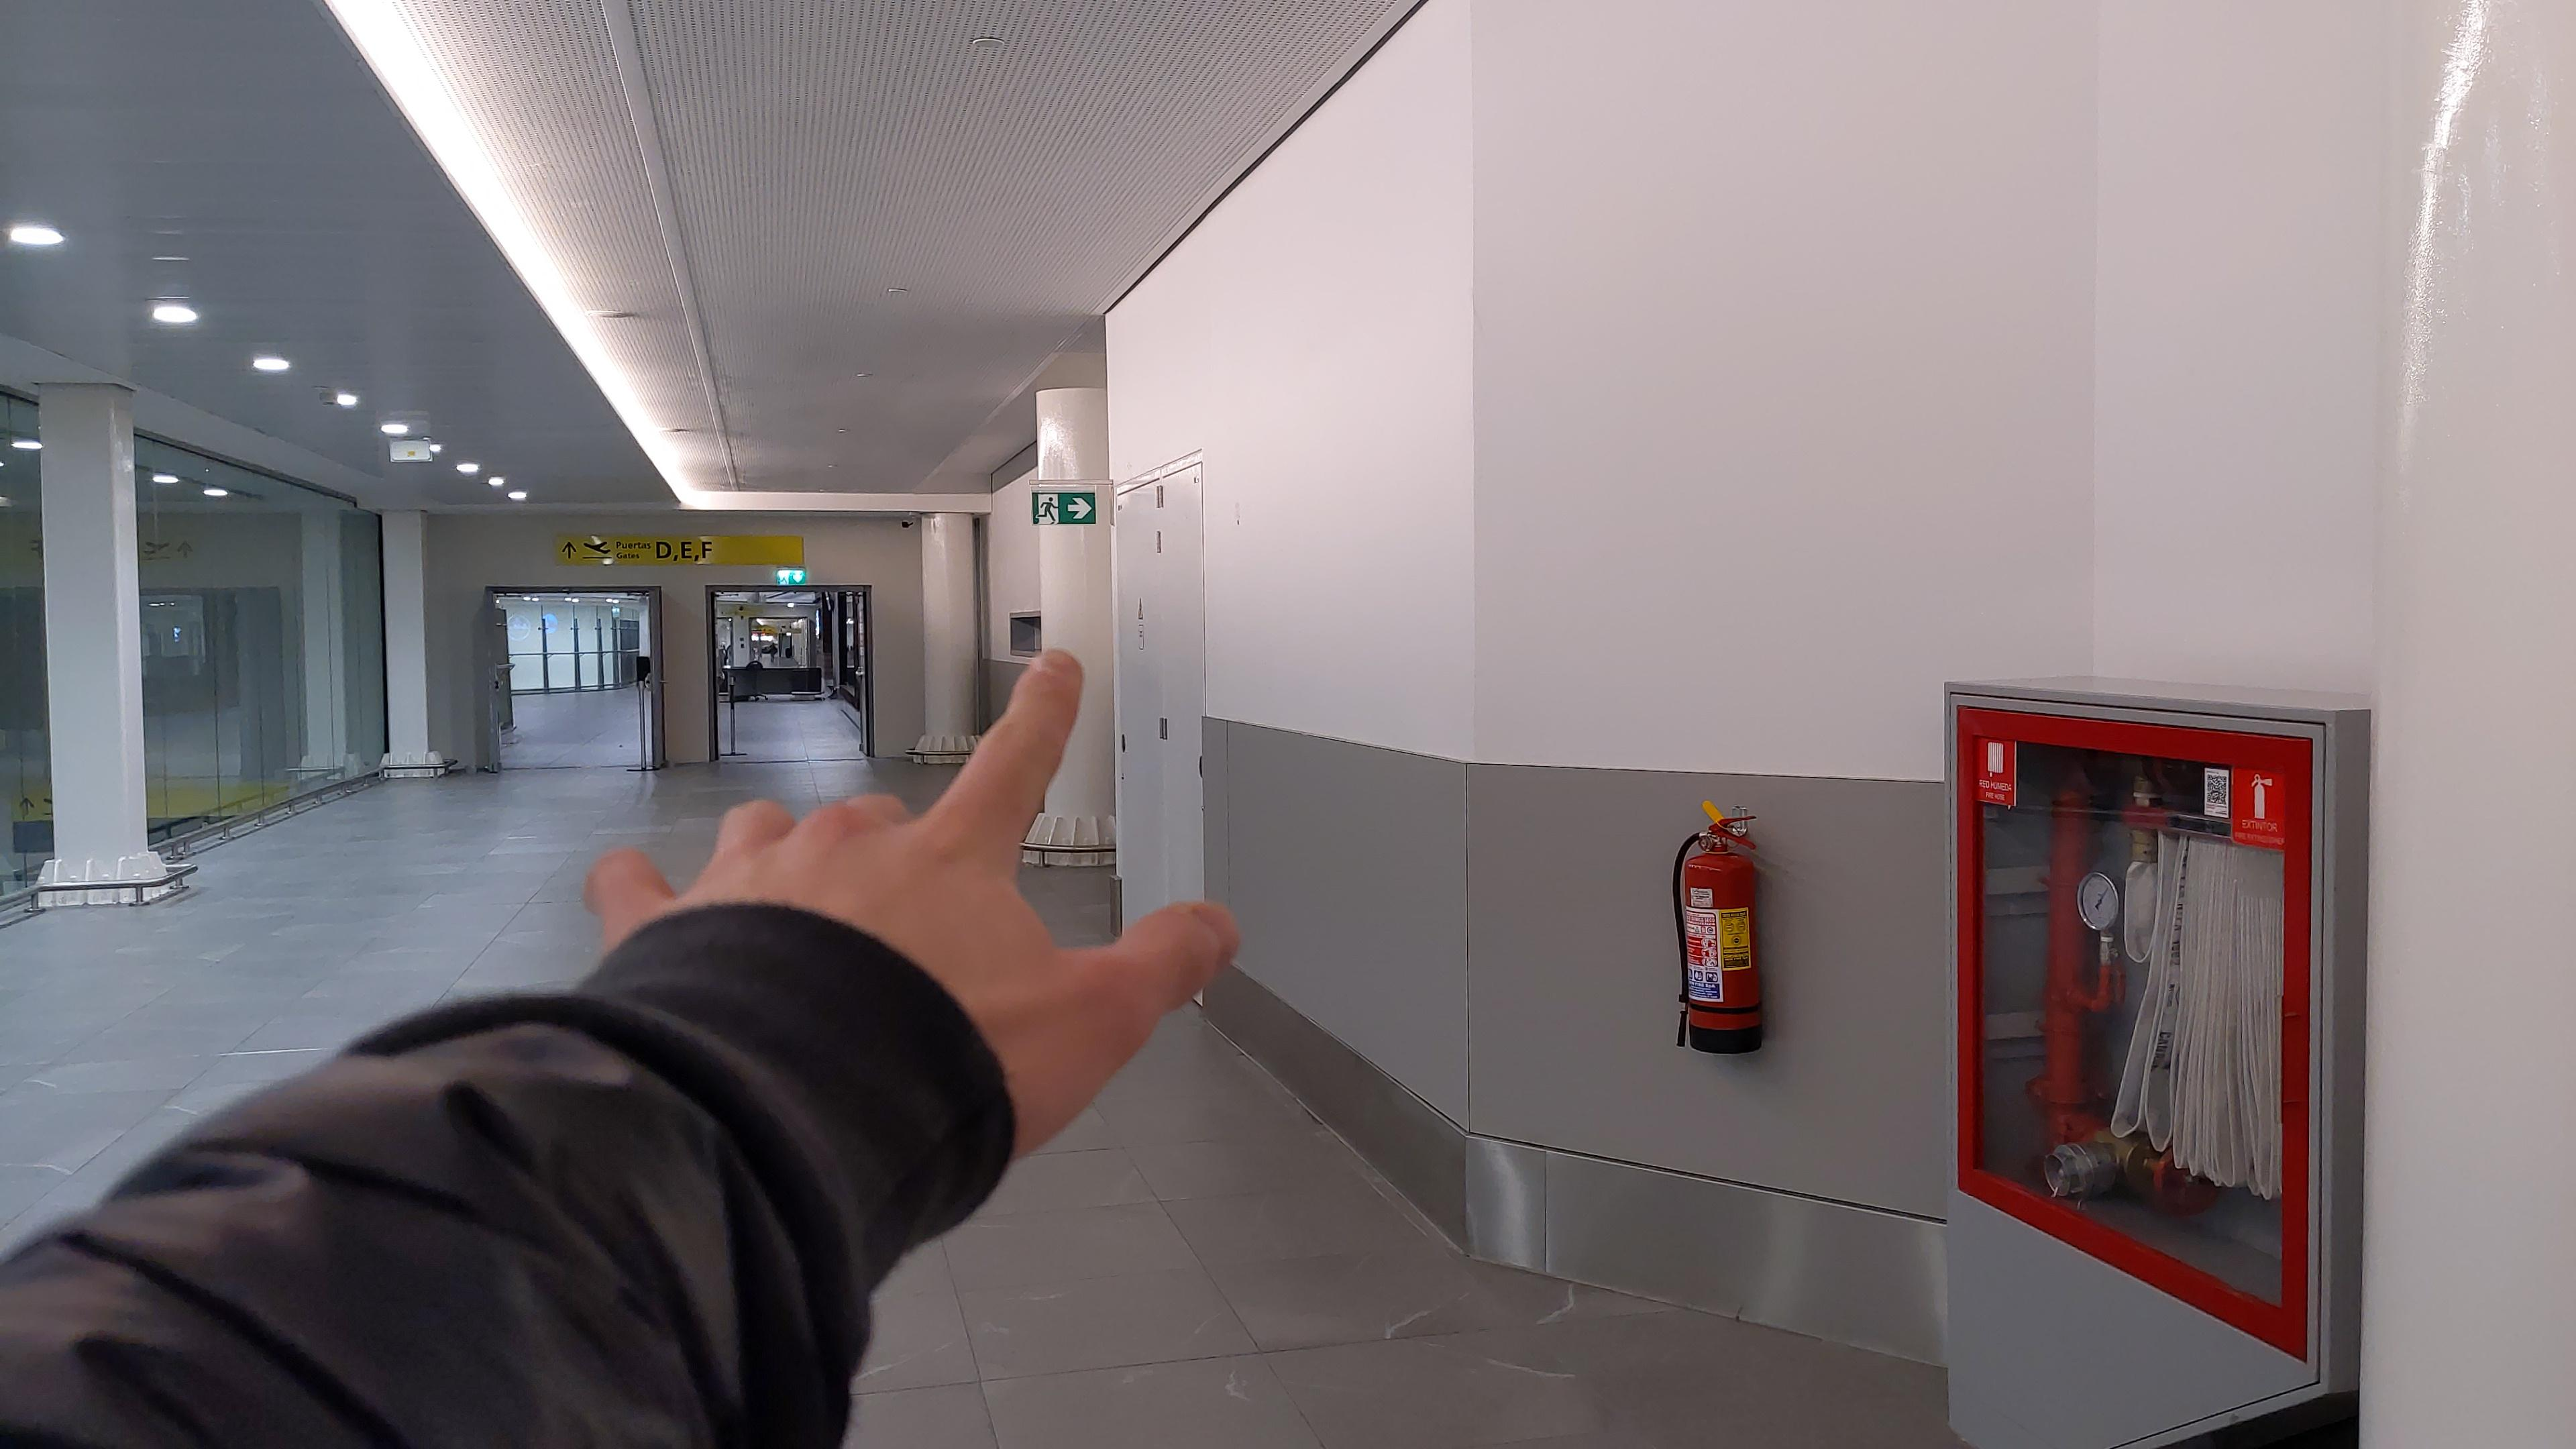airplane symbol: (142, 538, 172, 557), (582, 540, 612, 556)
emergency exit: (1033, 492, 1060, 525)
emergency right arrow: (1067, 495, 1093, 520)
fire-extinguisher: (1668, 803, 1780, 1058)
handicapped symbol: (2245, 773, 2277, 821)
thin up arrow: (173, 538, 195, 561), (561, 541, 579, 559), (18, 796, 35, 814)
